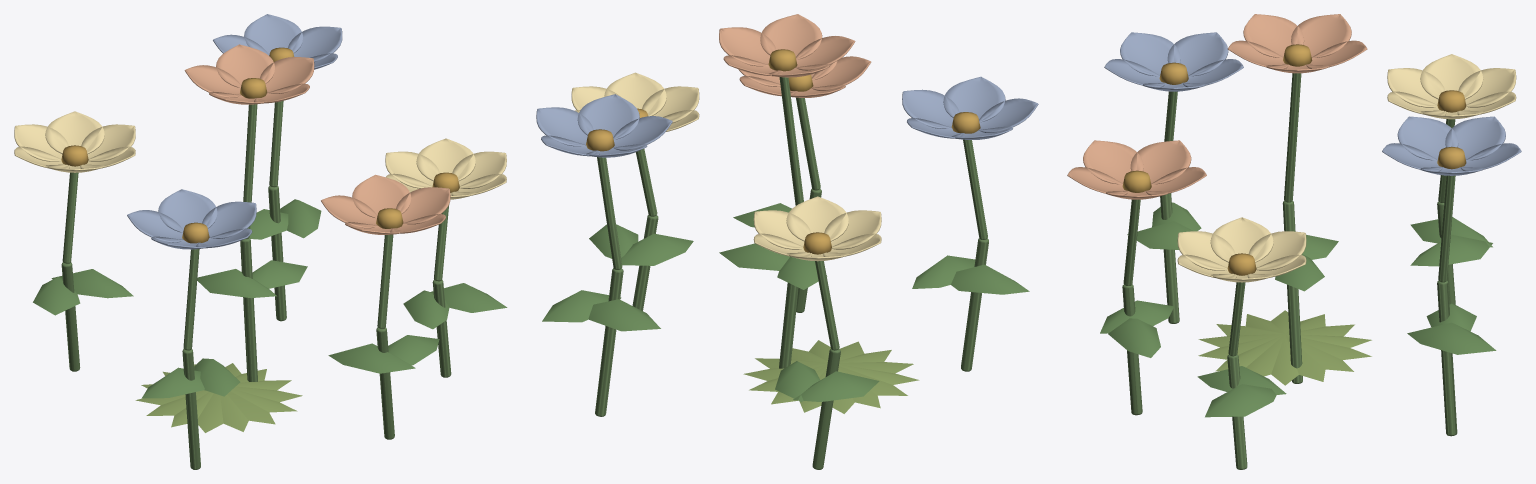
File: cozy_flowers.glb
3 renders of one model, left to right at view 1: azimuth 30°, elevation 25°; view 2: azimuth 150°, elevation 25°; view 3: azimuth 270°, elevation 25°, orthographic. The views are drawn at different scales.
Visible parts, largest first — view 1: Crown_GroveLeaf, Crown_Stem, Crown_PetalCream, Crown_PetalPeach, Crown_PetalBlue, flowers_GroveLeafLight, Crown_Pollen; view 2: Crown_GroveLeaf, Crown_Stem, Crown_PetalBlue, Crown_PetalCream, Crown_PetalPeach, flowers_GroveLeafLight, Crown_Pollen; view 3: Crown_GroveLeaf, Crown_PetalCream, Crown_Stem, Crown_PetalPeach, Crown_PetalBlue, flowers_GroveLeafLight, Crown_Pollen.
Boxes of the visible parts, bbox=[...] form: Crown_GroveLeaf: bbox=[33, 199, 507, 398]; Crown_Stem: bbox=[61, 101, 451, 469]; Crown_PetalCream: bbox=[14, 111, 506, 199]; Crown_PetalPeach: bbox=[184, 44, 450, 234]; Crown_PetalBlue: bbox=[127, 14, 342, 249]; flowers_GroveLeafLight: bbox=[135, 363, 302, 432]; Crown_Pollen: bbox=[61, 47, 459, 243]; Crown_GroveLeaf: bbox=[542, 203, 1029, 401]; Crown_Stem: bbox=[595, 77, 988, 469]; Crown_PetalBlue: bbox=[536, 76, 1038, 157]; Crown_PetalCream: bbox=[571, 72, 881, 261]; Crown_PetalPeach: bbox=[719, 14, 871, 97]; flowers_GroveLeafLight: bbox=[743, 340, 919, 413]; Crown_Pollen: bbox=[586, 49, 980, 254]; Crown_GroveLeaf: bbox=[1100, 202, 1496, 417]; Crown_PetalCream: bbox=[1177, 54, 1516, 282]; Crown_Stem: bbox=[1122, 73, 1457, 469]; Crown_PetalPeach: bbox=[1067, 14, 1367, 199]; Crown_PetalBlue: bbox=[1104, 32, 1521, 175]; flowers_GroveLeafLight: bbox=[1198, 310, 1371, 385]; Crown_Pollen: bbox=[1122, 44, 1466, 275].
Bounding box in the file's own units: 0.7934 × 0.6159 × 0.7368.
